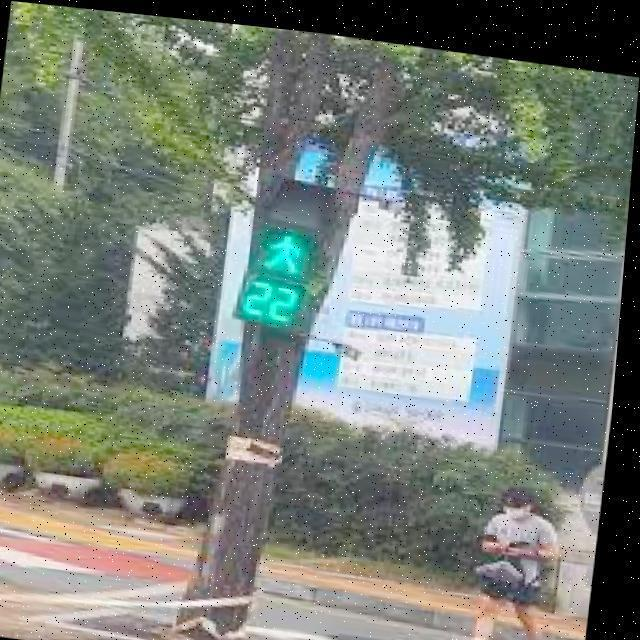greenlight: (254, 167, 322, 286)
